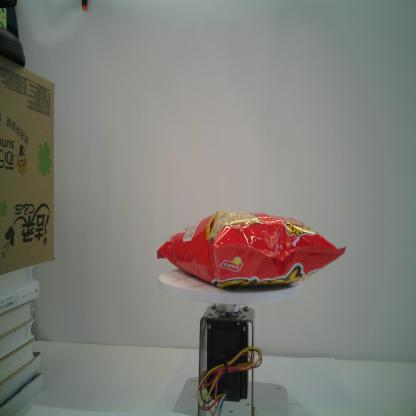Puffed Food: (155, 210, 348, 291)
